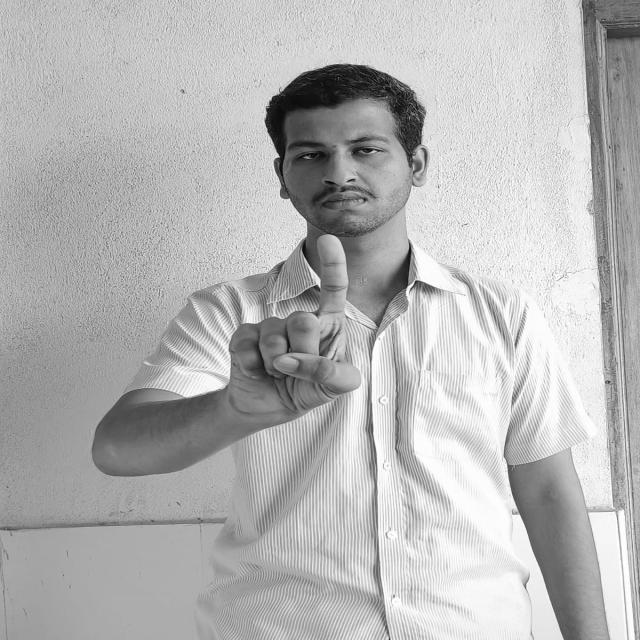Question: (228, 235, 363, 420)
